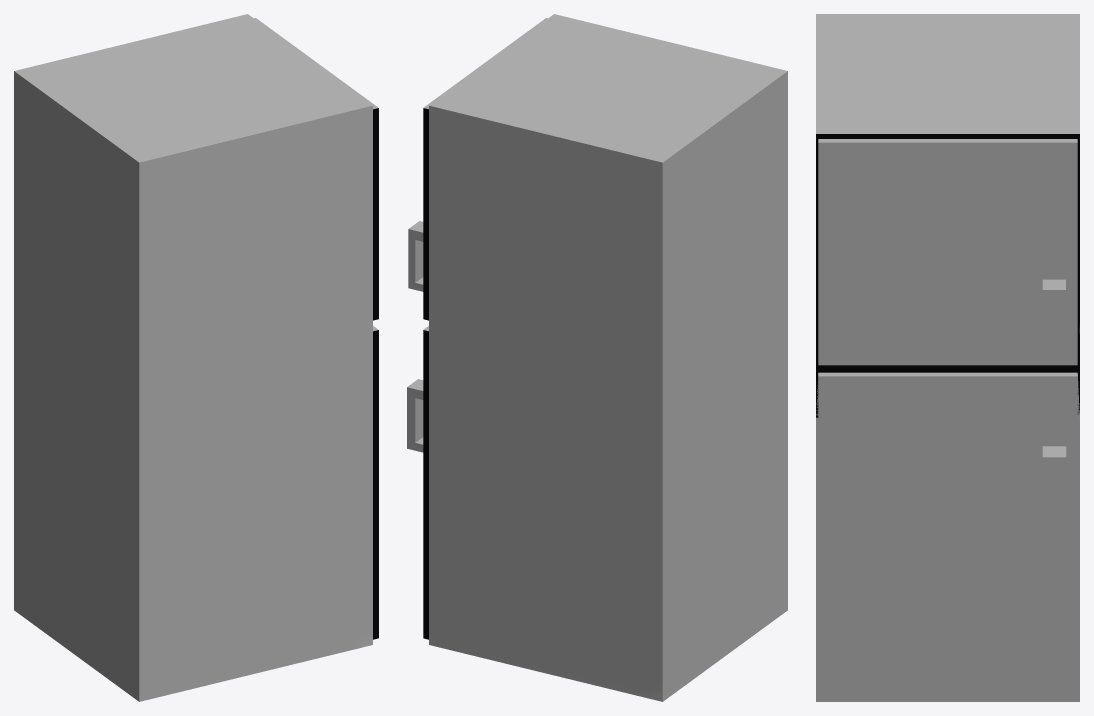
Rendered from Fridge.fbx.
3 renders of one model, left to right at view 1: azimuth 30°, elevation 25°; view 2: azimuth 150°, elevation 25°; view 3: azimuth 270°, elevation 25°, orthographic. The views are drawn at different scales.
Visible parts, largest first — view 1: Cube; view 2: Cube; view 3: Cube.
Boxes of the visible parts, x1=… form: Cube: x1=14, y1=14, x2=378, y2=701; Cube: x1=407, y1=14, x2=787, y2=701; Cube: x1=816, y1=14, x2=1079, y2=701.
Size of the model in its own units: 242 by 475 by 200.
1 material, 1 textured.
